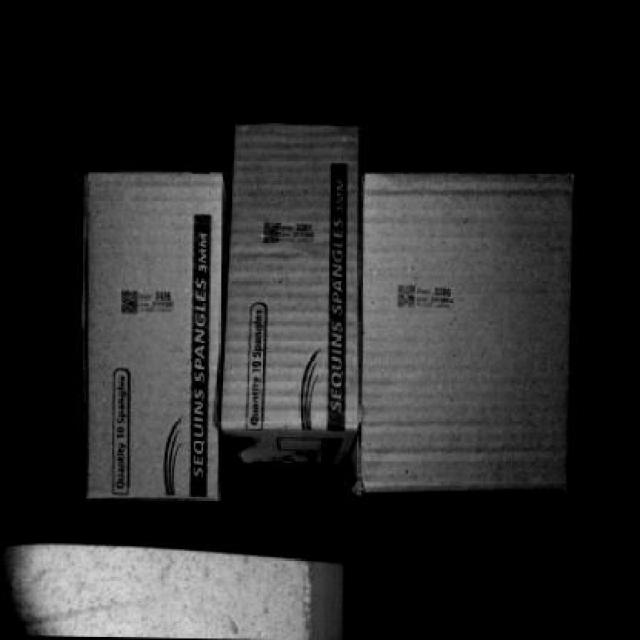cardboxes: (360, 170, 572, 490), (79, 168, 230, 484), (222, 119, 364, 438), (222, 500, 223, 502)
